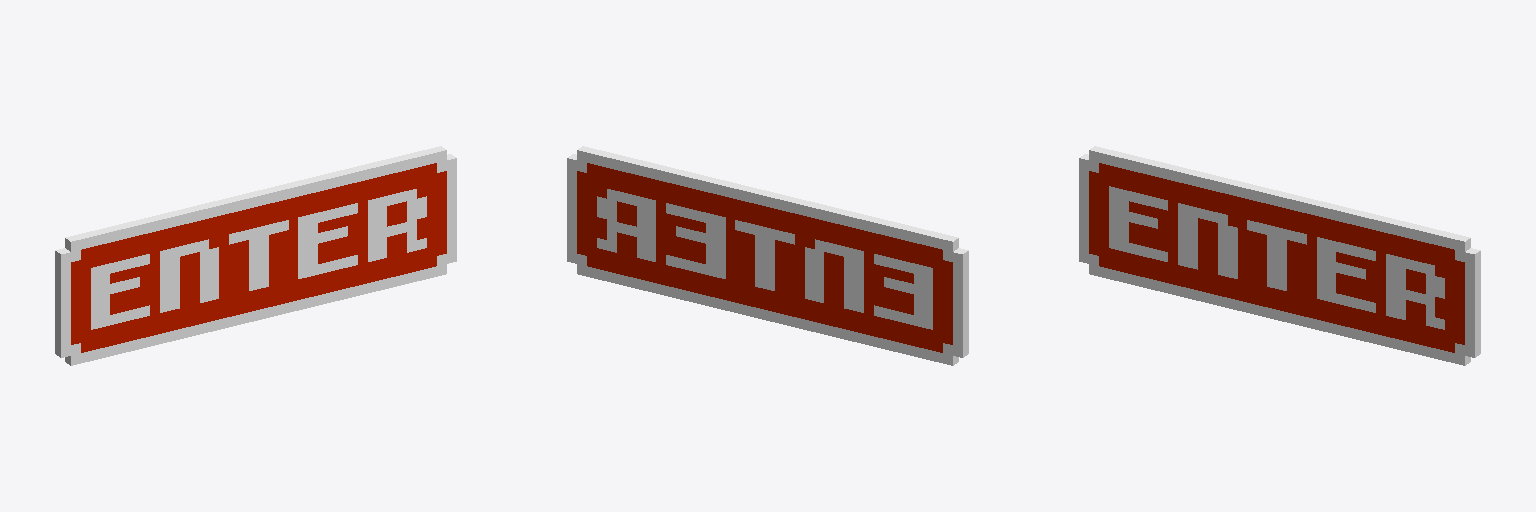
The picture shows the model from 3 angles: view 1: azimuth 30°, elevation 25°; view 2: azimuth 150°, elevation 25°; view 3: azimuth 330°, elevation 25°; orthographic projection.
Parts seen in each view (by area): view 1: Matrix_11; view 2: Matrix_11; view 3: Matrix_11.
Boxes of the visible parts, box(x1,y1,x2,y2) form: Matrix_11: box(55, 146, 456, 365); Matrix_11: box(567, 146, 968, 365); Matrix_11: box(1079, 146, 1480, 365).
Size of the model in its own units: 40 by 12 by 1.
Materials: 1 (1 with a texture image).